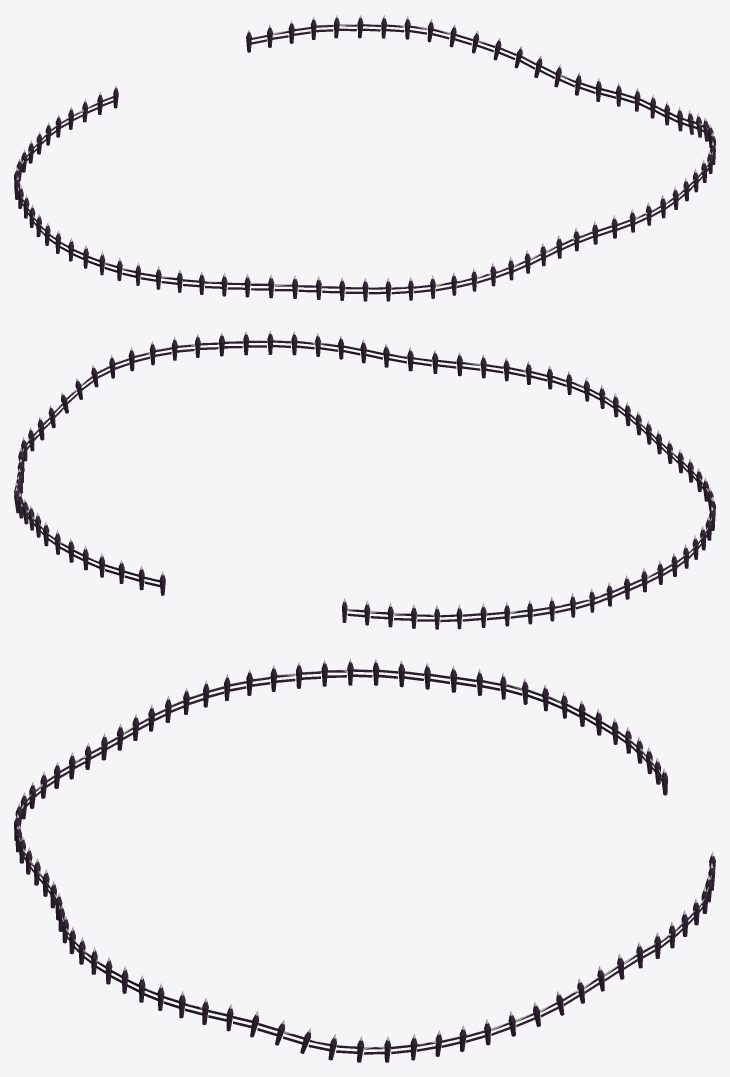
The model's file is Fence-HomeMountainTop.glb.
3 views of the same model, one above another, from view 1: azimuth 30°, elevation 25°; view 2: azimuth 150°, elevation 25°; view 3: azimuth 270°, elevation 25° (orthographic). The views are drawn at different scales.
Visible parts, largest first — view 1: Fence; view 2: Fence; view 3: Fence.
Boxes of the visible parts, left/top/right/bottom form: Fence: left=14, top=15, right=715, bottom=301; Fence: left=14, top=331, right=715, bottom=629; Fence: left=14, top=658, right=715, bottom=1062.
Bounding box in the file's own units: 146 × 11.99 × 123.
